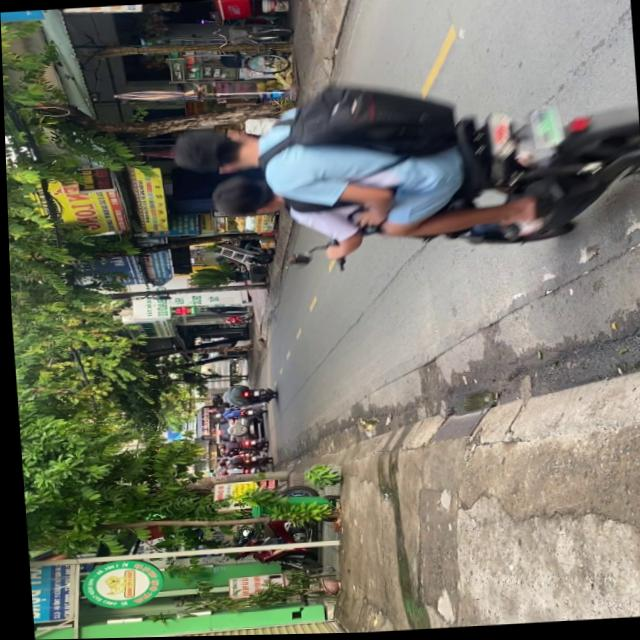licenseplate: (162, 66, 640, 275)
motorcyclist: (166, 123, 262, 178), (208, 174, 282, 220)
